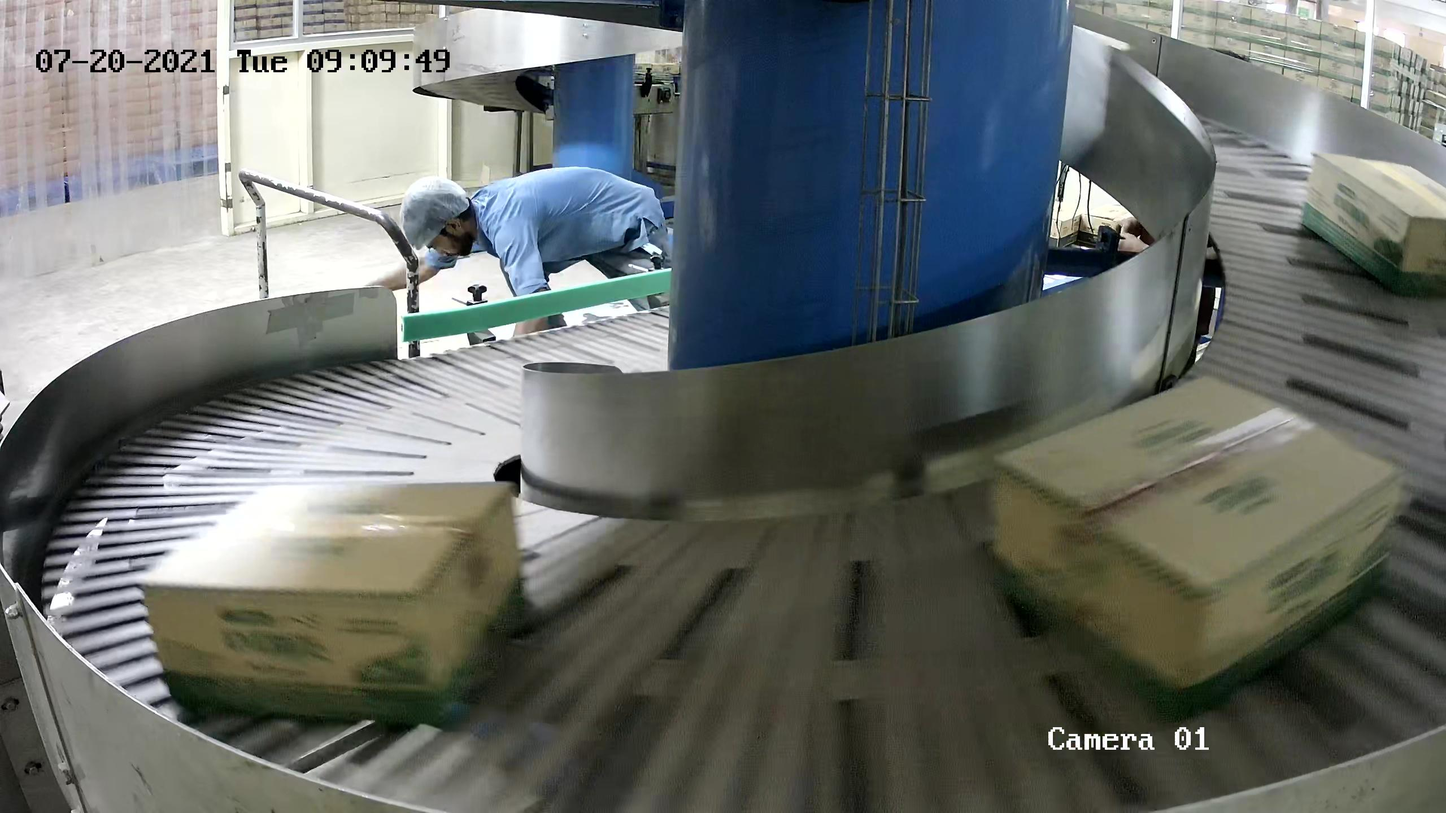Box: (986, 368, 1409, 726), (136, 477, 528, 729), (1298, 148, 1446, 297)
